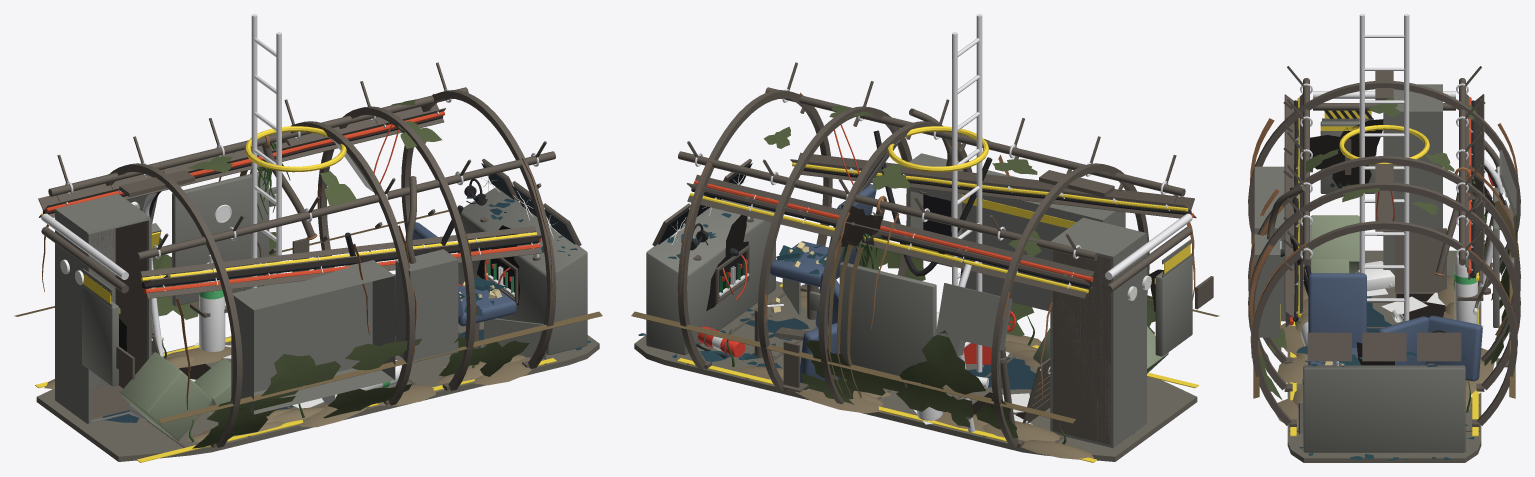
Rendered from SM_Sub_Interior_Wrecked.fbx.
3 views of the same model, side by side, from view 1: azimuth 30°, elevation 25°; view 2: azimuth 150°, elevation 25°; view 3: azimuth 270°, elevation 25° (orthographic). The views are drawn at different scales.
Visible parts, largest first — view 1: SM_Sub_Interior_Wrecked; view 2: SM_Sub_Interior_Wrecked; view 3: SM_Sub_Interior_Wrecked.
Boxes of the visible parts, box(x1,y1,x2,y2) form: SM_Sub_Interior_Wrecked: box(14, 14, 602, 462); SM_Sub_Interior_Wrecked: box(631, 14, 1219, 462); SM_Sub_Interior_Wrecked: box(1248, 14, 1520, 462).
Size of the model in its own units: 3.85 by 2.74 by 2.1.
